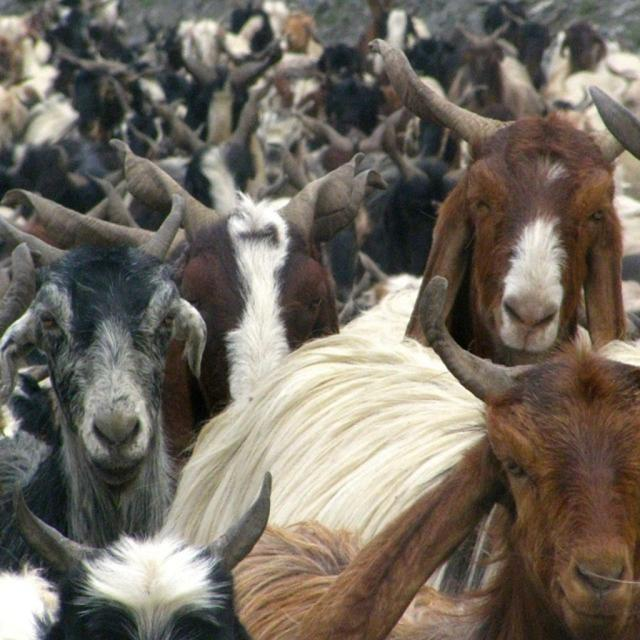Goat: (368, 36, 638, 364)
